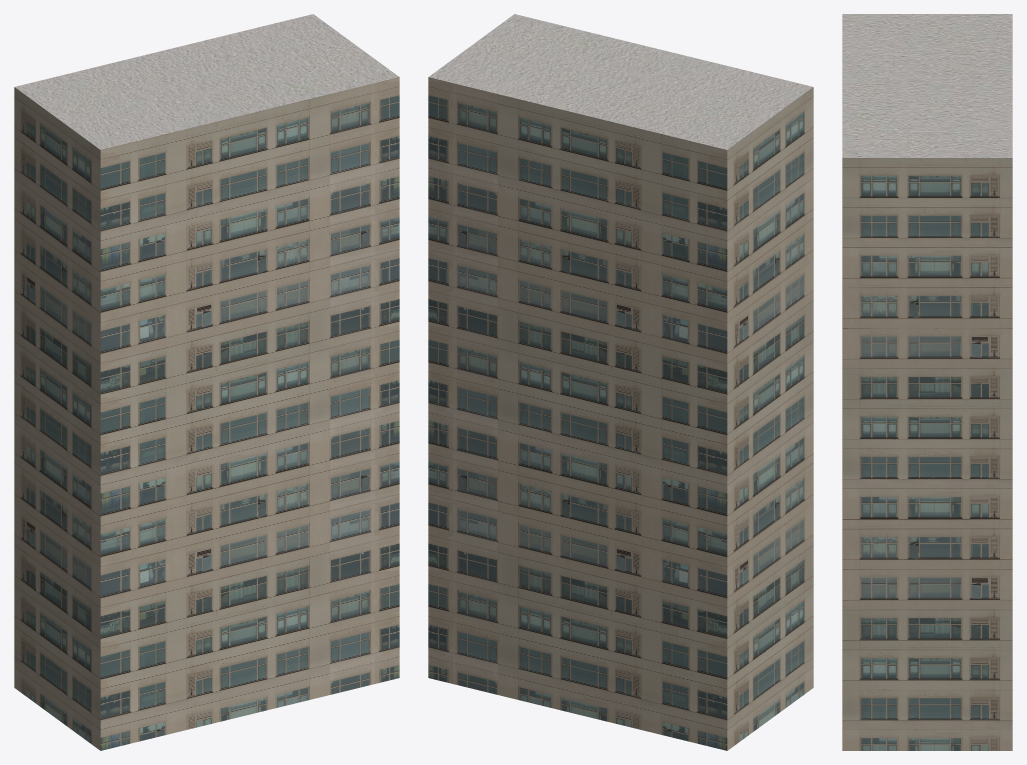
Rendered from building_027.glb.
3 views of the same model, side by side, from view 1: azimuth 30°, elevation 25°; view 2: azimuth 150°, elevation 25°; view 3: azimuth 270°, elevation 25° (orthographic).
Parts seen in each view (by area): view 1: building_027; view 2: building_027; view 3: building_027.
Boxes of the visible parts, bbox=[...] form: building_027: bbox=[14, 14, 399, 750]; building_027: bbox=[428, 14, 813, 750]; building_027: bbox=[842, 14, 1012, 750].
Bounding box in the file's own units: 1500 × 2880 × 750.
2 materials, 2 textured.
